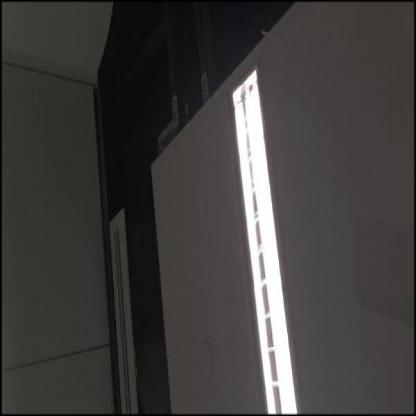light_on: (221, 65, 309, 414)
